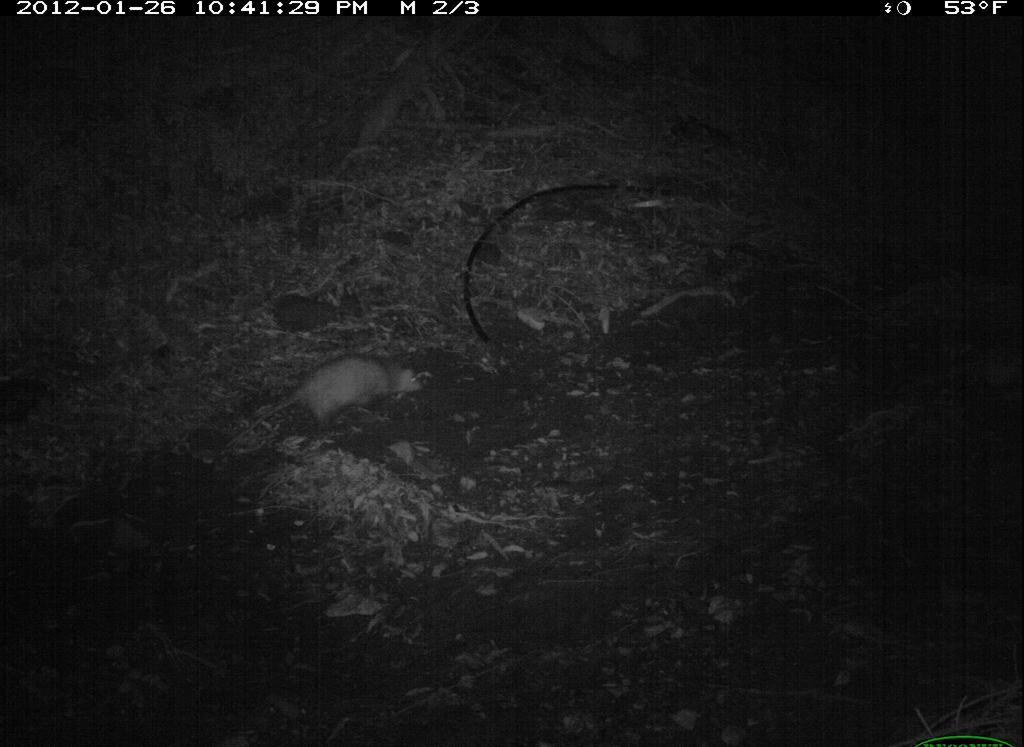opossum: (217, 349, 436, 465)
